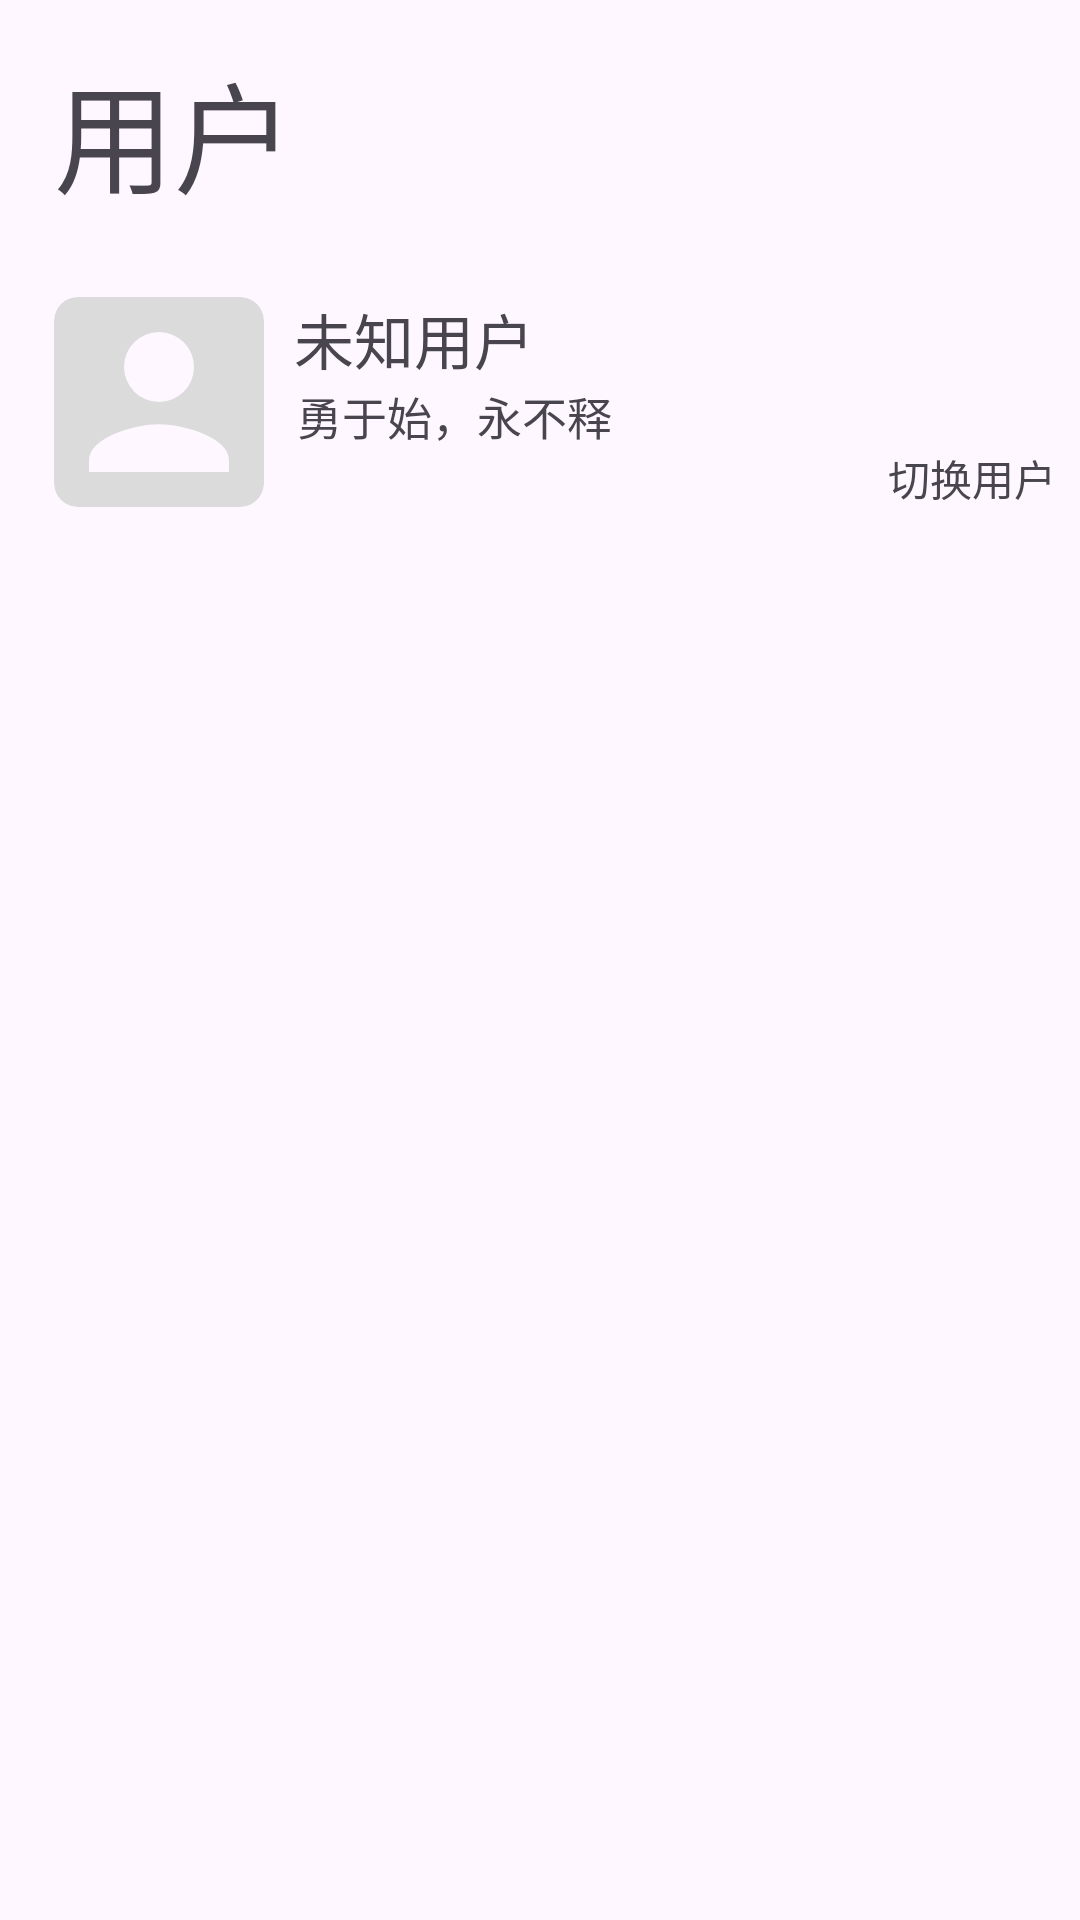

Icons on this 1080*1920 Android screen, each with its box as [left=x1, top=y1, right=x2, bottom=y2]:
user main: [left=54, top=297, right=264, bottom=507]
